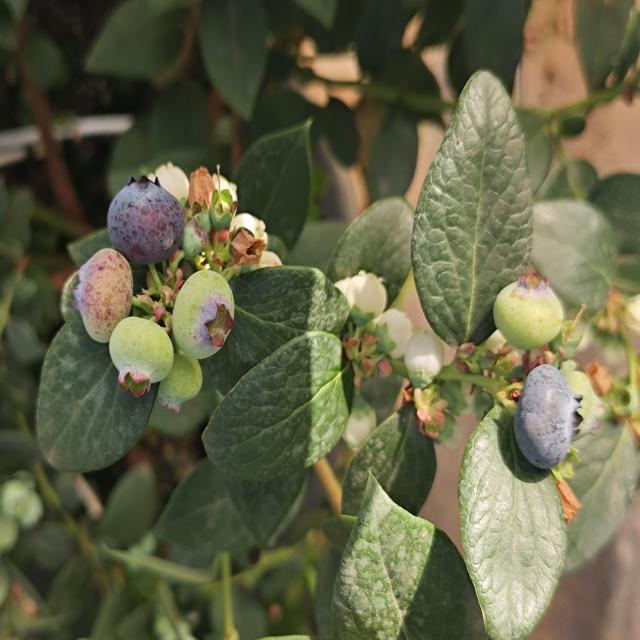ripe: (511, 362, 584, 473), (105, 173, 186, 268)
